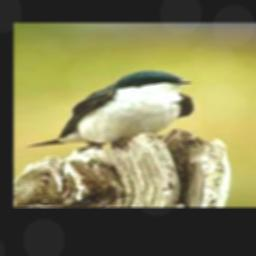Swallow: (27, 70, 193, 148)
